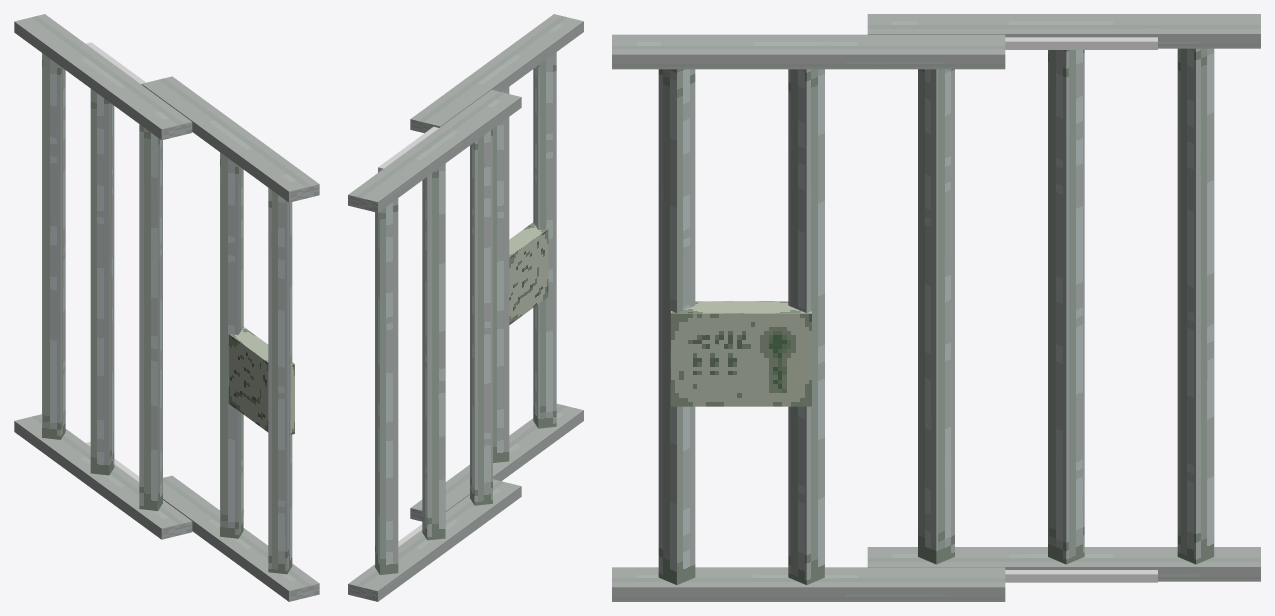
File: Prison_Bars3.fbx
The picture shows the model from 3 angles, left to right: view 1: azimuth 30°, elevation 25°; view 2: azimuth 150°, elevation 25°; view 3: azimuth 270°, elevation 25°; orthographic projection. The views are drawn at different scales.
Parts seen in each view (by area): view 1: Cube.004, Cube.003, Cube.002, Cube.006, Cube.005, Cube.007, Cube.001, Cube.008, Cube.009, Cube; view 2: Cube.006, Cube.004, Cube.002, Cube.003, Cube.007, Cube.005, Cube.001, Cube.008, Cube.009, Cube, Cube.011; view 3: Cube.006, Cube.004, Cube.002, Cube.003, Cube.005, Cube, Cube.001, Cube.009, Cube.007, Cube.008, Cube.011, Cube.010.
Part boxes in pixels (x1,y1,x2,y2): Cube.004: [90, 89, 114, 475]; Cube.003: [268, 188, 292, 574]; Cube.002: [139, 124, 162, 510]; Cube.006: [42, 53, 65, 439]; Cube.005: [220, 152, 243, 538]; Cube.007: [14, 14, 192, 140]; Cube.001: [141, 76, 319, 202]; Cube.008: [14, 414, 192, 539]; Cube.009: [163, 475, 319, 601]; Cube: [228, 327, 294, 434]; Cube.006: [375, 198, 398, 574]; Cube.004: [422, 163, 445, 540]; Cube.002: [470, 129, 492, 505]; Cube.003: [533, 52, 556, 428]; Cube.007: [348, 90, 521, 212]; Cube.005: [493, 87, 509, 462]; Cube.001: [410, 14, 583, 133]; Cube.008: [348, 479, 521, 601]; Cube.009: [410, 403, 583, 521]; Cube: [509, 222, 548, 324]; Cube.011: [378, 126, 438, 172]; Cube.006: [1177, 48, 1214, 564]; Cube.004: [1048, 50, 1084, 564]; Cube.002: [918, 69, 954, 564]; Cube.003: [658, 69, 695, 584]; Cube.005: [788, 69, 824, 585]; Cube: [671, 301, 811, 406]; Cube.001: [612, 34, 1005, 69]; Cube.009: [612, 567, 1005, 601]; Cube.007: [867, 14, 1260, 48]; Cube.008: [867, 547, 1260, 581]; Cube.011: [1005, 37, 1157, 49]; Cube.010: [1005, 570, 1157, 582].
Bounding box in the file's own units: 59.23 × 372 × 400.
